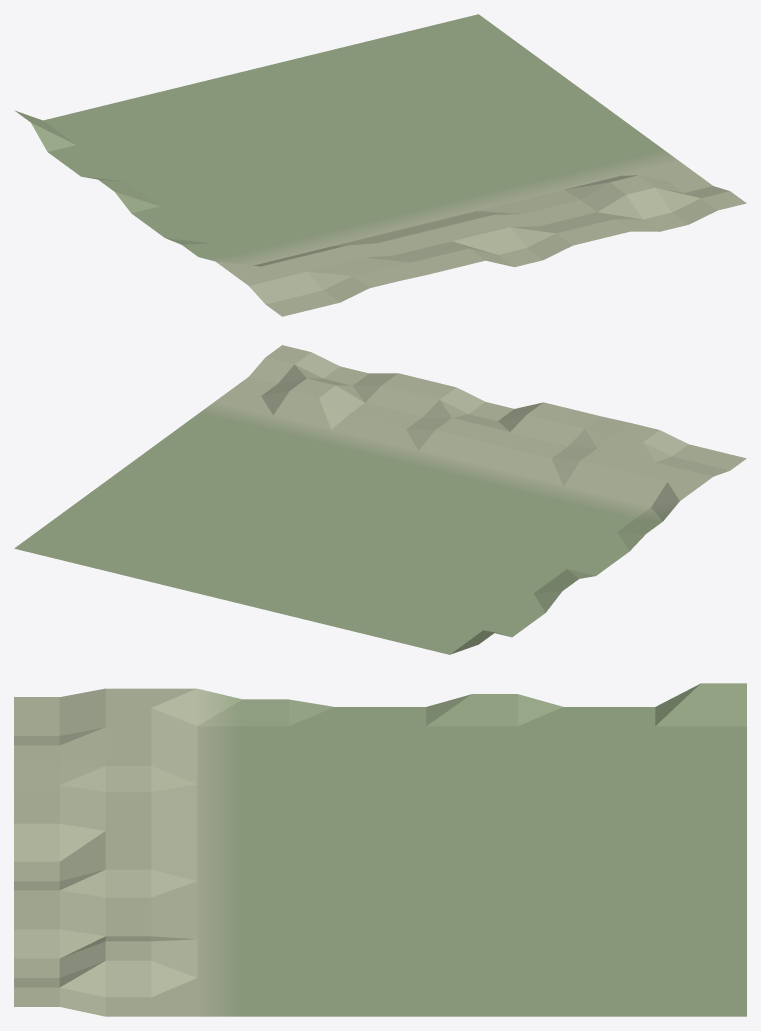
The picture shows the model from 3 angles, top to bottom: view 1: azimuth 30°, elevation 25°; view 2: azimuth 150°, elevation 25°; view 3: azimuth 270°, elevation 25°; orthographic projection. The views are drawn at different scales.
Size of the model in its own units: 32 by 1.14 by 32.
